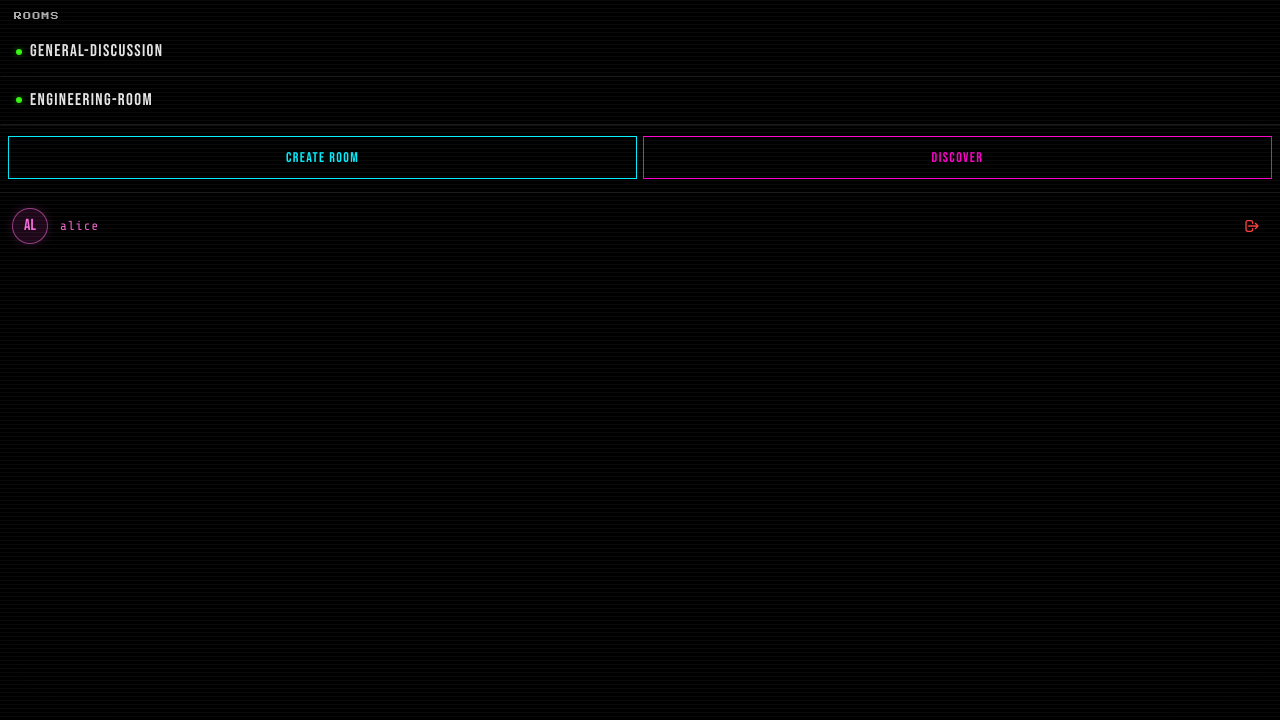
Test: RoomList › disables create submit button for empty room name
The width and height of the screenshot is (1280, 720).
Expected: the text "General-Discussion" is shown, x1=30 y1=41 x2=163 y2=61
Click the button titled "Create new room".
click(322, 158)  # box x1=8 y1=136 x2=637 y2=179
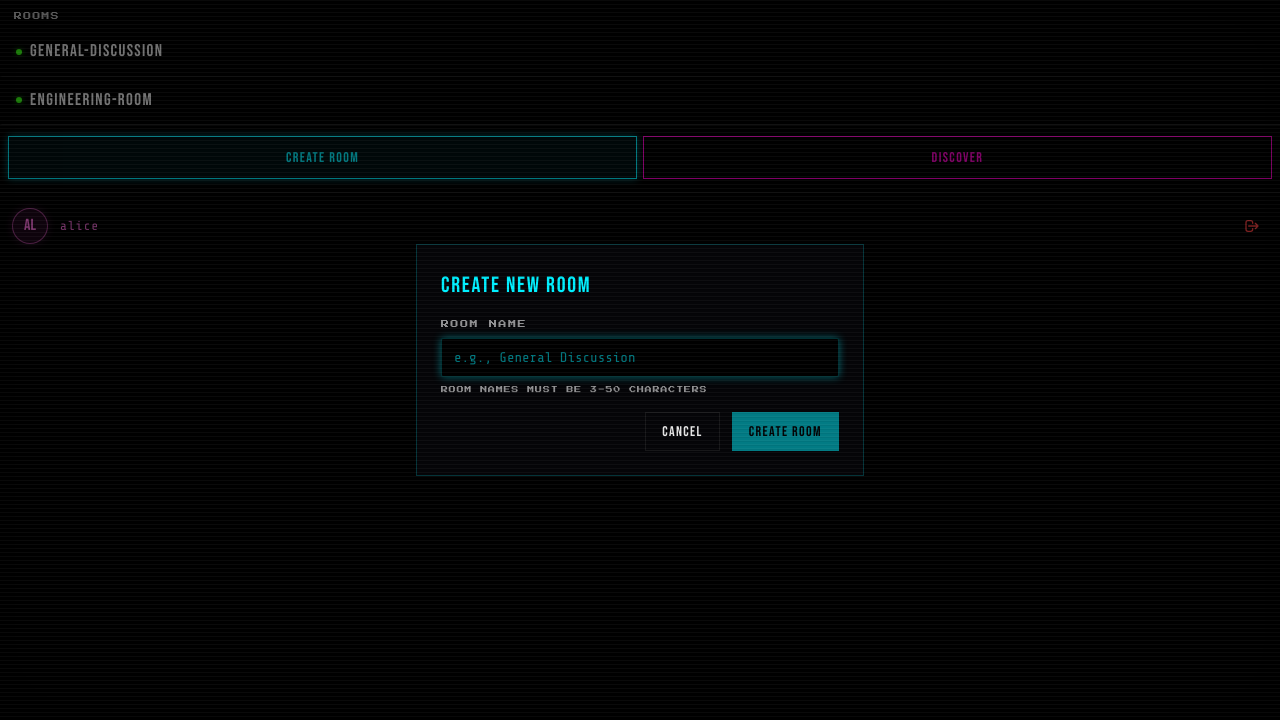
Now the button "CREATE ROOM" is disabled, box x1=732 y1=412 x2=839 y2=451
